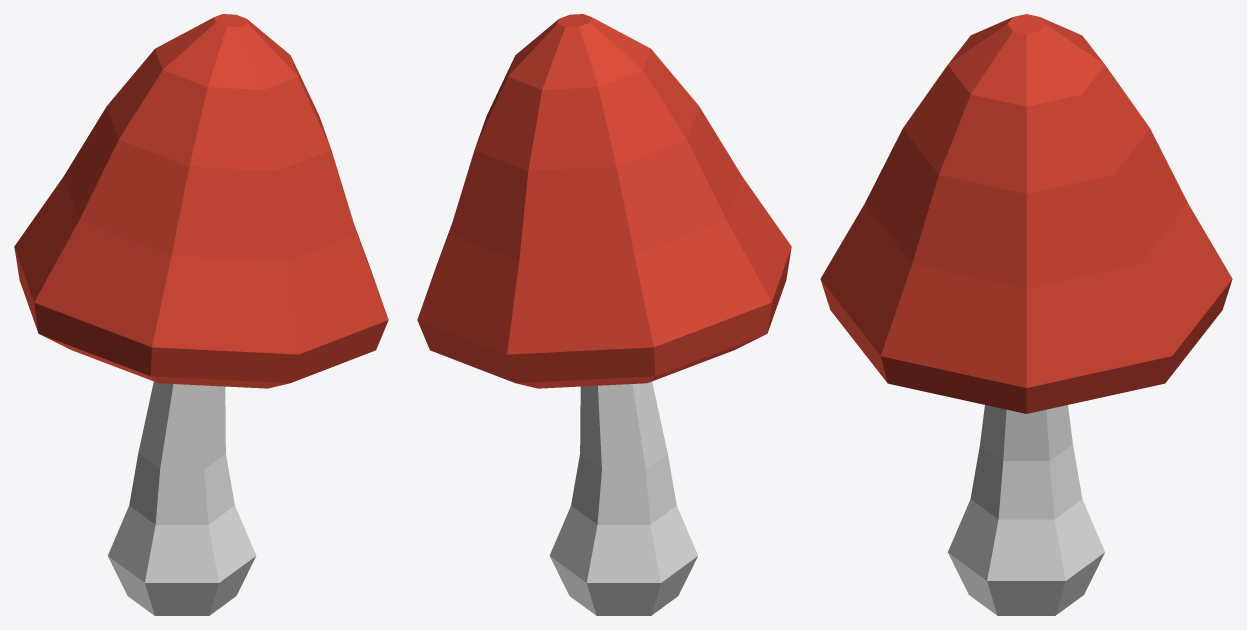
File: red_mushroom1.fbx
3 renders of one model, left to right at view 1: azimuth 30°, elevation 25°; view 2: azimuth 150°, elevation 25°; view 3: azimuth 270°, elevation 25°, orthographic. The views are drawn at different scales.
Visible parts, largest first — view 1: Circle, body3; view 2: Circle, body3; view 3: Circle, body3.
Part boxes in pixels (x1,y1,x2,y2): Circle: (14,14,388,388); body3: (107,381,256,615); Circle: (417,14,791,388); body3: (549,381,698,615); Circle: (820,14,1232,413); body3: (948,405,1104,615).
Size of the model in its own units: 2.96 by 4.78 by 2.98.
